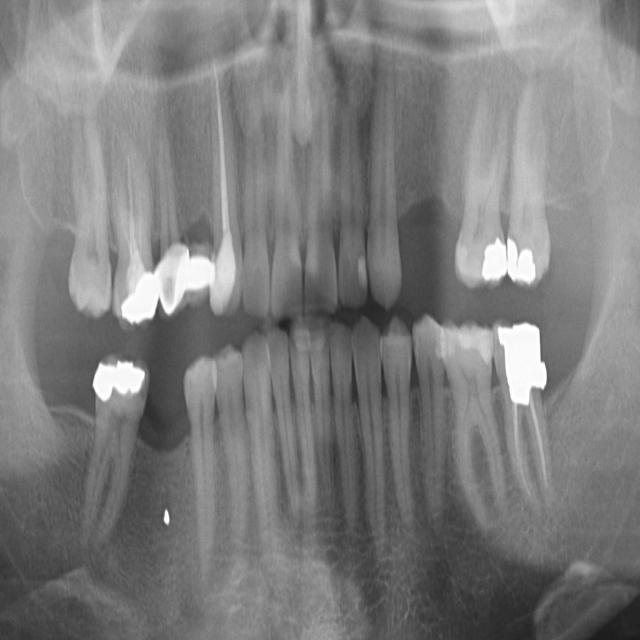infected-teeth: (497, 320, 565, 528), (198, 33, 242, 314), (110, 101, 156, 319), (149, 82, 192, 306)
